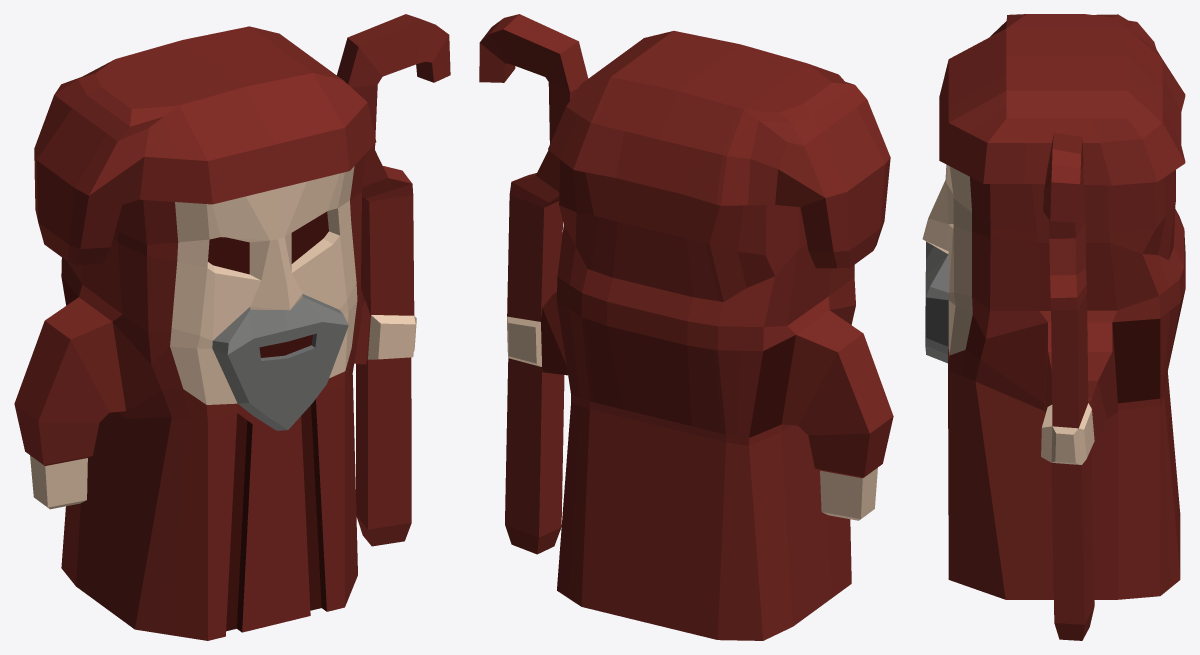
The model's file is characters.fbx.
3 renders of one model, left to right at view 1: azimuth 30°, elevation 25°; view 2: azimuth 150°, elevation 25°; view 3: azimuth 270°, elevation 25°, orthographic. The views are drawn at different scales.
Visible parts, largest first — view 1: RedWizard; view 2: RedWizard; view 3: RedWizard.
Part boxes in pixels (x1=…): RedWizard: x1=14, y1=14, x2=450, y2=640; RedWizard: x1=479, y1=14, x2=893, y2=640; RedWizard: x1=922, y1=14, x2=1185, y2=640.
Size of the model in its own units: 388 by 472 by 227.
